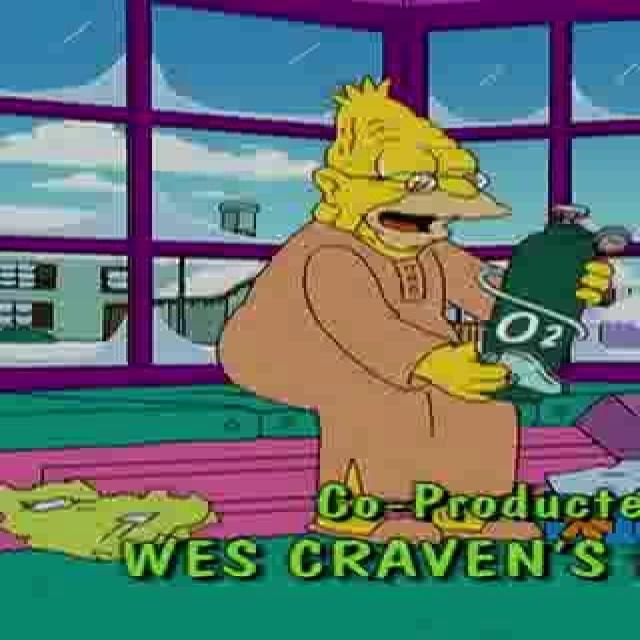Abraham Grampa Simpson: (308, 76, 516, 257)
